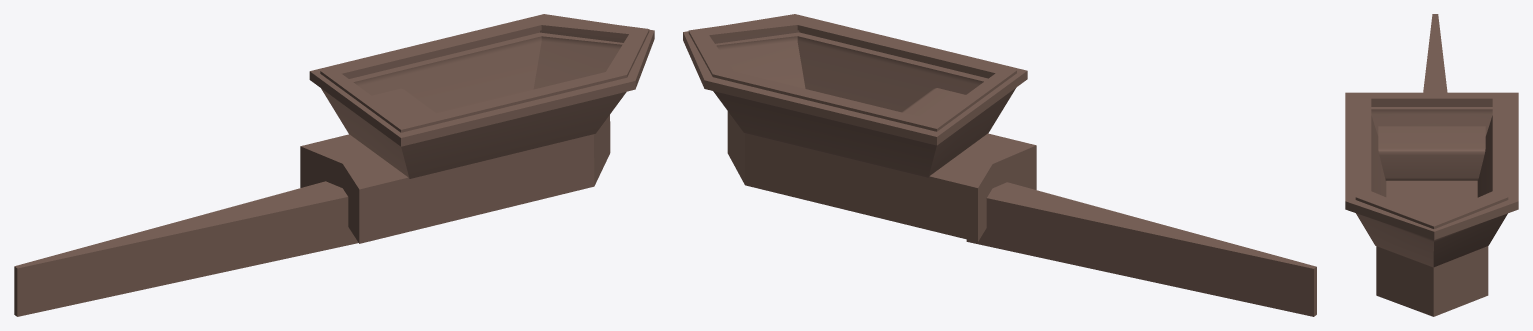
File: boat 01.fbx
The picture shows the model from 3 angles, left to right: view 1: azimuth 30°, elevation 25°; view 2: azimuth 150°, elevation 25°; view 3: azimuth 270°, elevation 25°; orthographic projection. The views are drawn at different scales.
Visible parts, largest first — view 1: boat, tail; view 2: boat, tail; view 3: boat, tail.
Part boxes in pixels (x1,y1,x2,y2): boat: (300, 14, 654, 243); tail: (14, 181, 358, 316); boat: (683, 14, 1036, 241); tail: (966, 182, 1316, 316); boat: (1345, 92, 1518, 316); tail: (1423, 14, 1447, 92).
Size of the model in its own units: 671 by 134 by 166.
